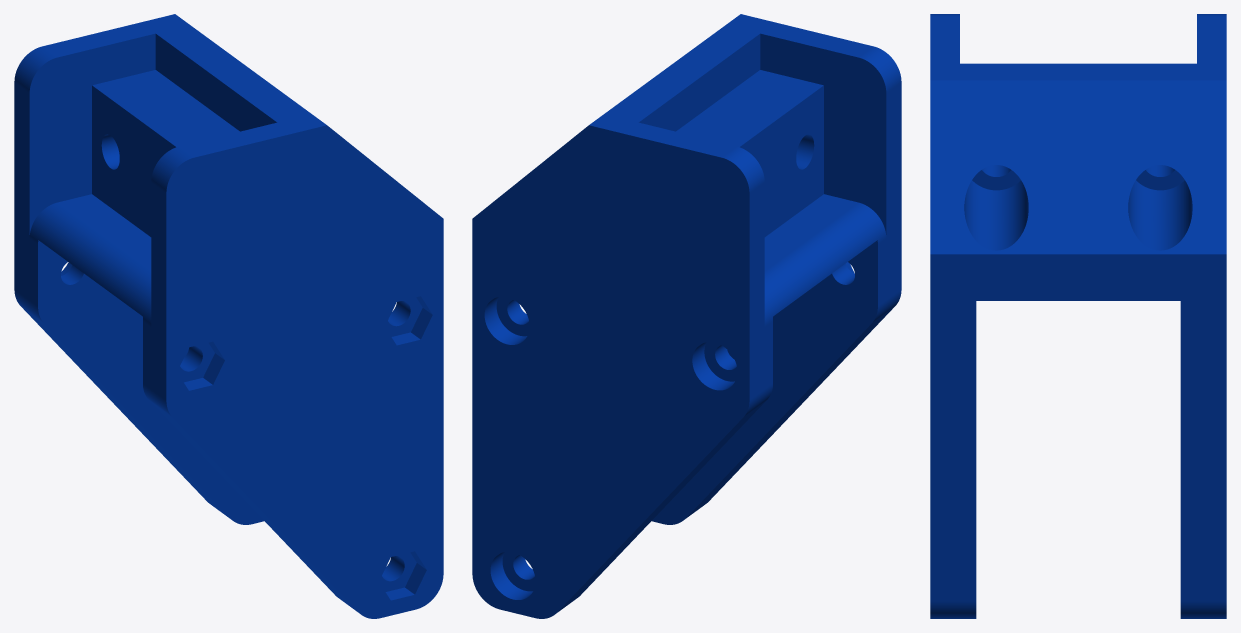
The model's file is wsg50_mount - finger_holder_right.obj.
3 views of the same model, side by side, from view 1: azimuth 30°, elevation 25°; view 2: azimuth 150°, elevation 25°; view 3: azimuth 270°, elevation 25° (orthographic). The views are drawn at different scales.
Parts seen in each view (by area): view 1: wsg50_mount_-_finger_holder_right; view 2: wsg50_mount_-_finger_holder_right; view 3: wsg50_mount_-_finger_holder_right.
Boxes of the visible parts, x1,y1,x2,y2 form: wsg50_mount_-_finger_holder_right: (14, 14, 443, 618); wsg50_mount_-_finger_holder_right: (472, 14, 901, 618); wsg50_mount_-_finger_holder_right: (930, 14, 1226, 618).
Bounding box in the file's own units: 40 × 69.8 × 38.
